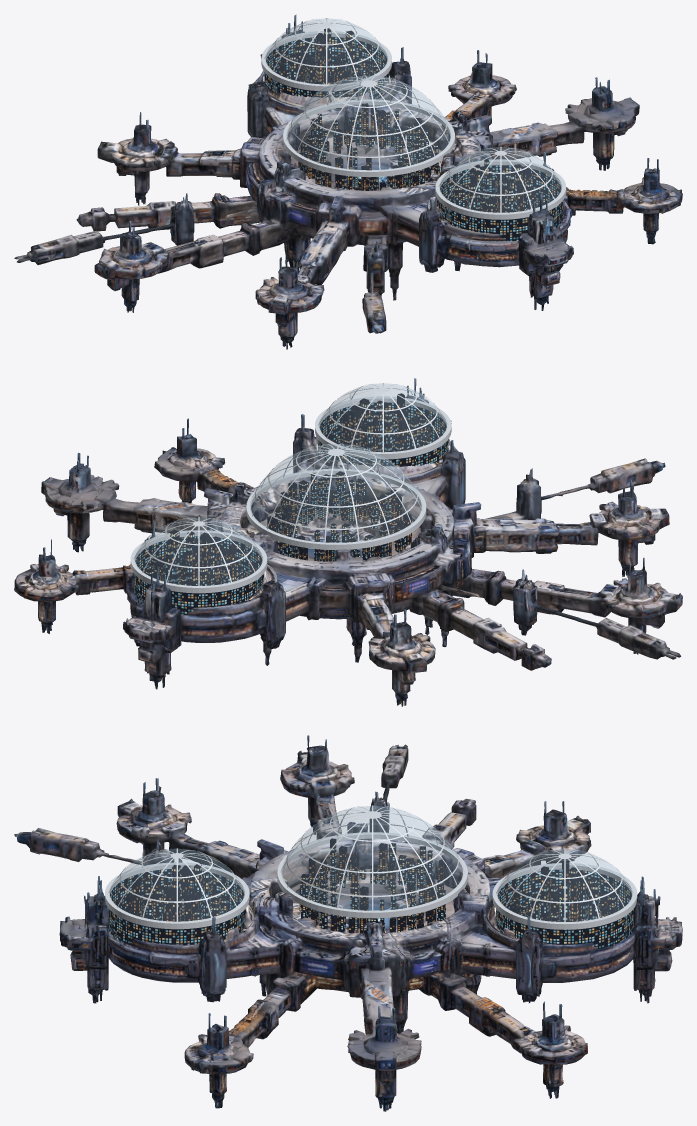
File: worlds_end_emporium.glb
The picture shows the model from 3 angles, top to bottom: view 1: azimuth 30°, elevation 25°; view 2: azimuth 150°, elevation 25°; view 3: azimuth 270°, elevation 25°; orthographic projection. The views are drawn at different scales.
Visible parts, largest first — view 1: WorldsEndEmporium; view 2: WorldsEndEmporium; view 3: WorldsEndEmporium.
Boxes of the visible parts, box(x1,y1,x2,y2) form: WorldsEndEmporium: box(14, 14, 682, 349); WorldsEndEmporium: box(14, 378, 682, 706); WorldsEndEmporium: box(14, 735, 682, 1111).
Bounding box in the file's own units: 0.8399 × 0.2311 × 0.7165.
4 materials, 2 textured.
